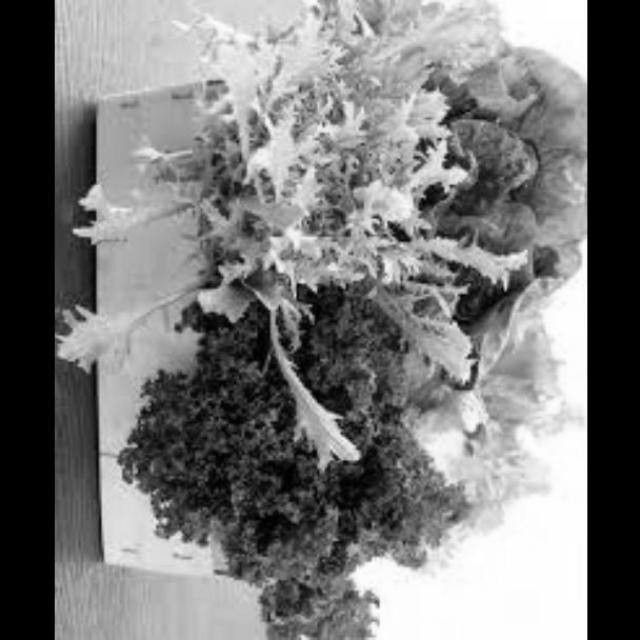dua chuot: (129, 340, 437, 633), (395, 42, 582, 358)
